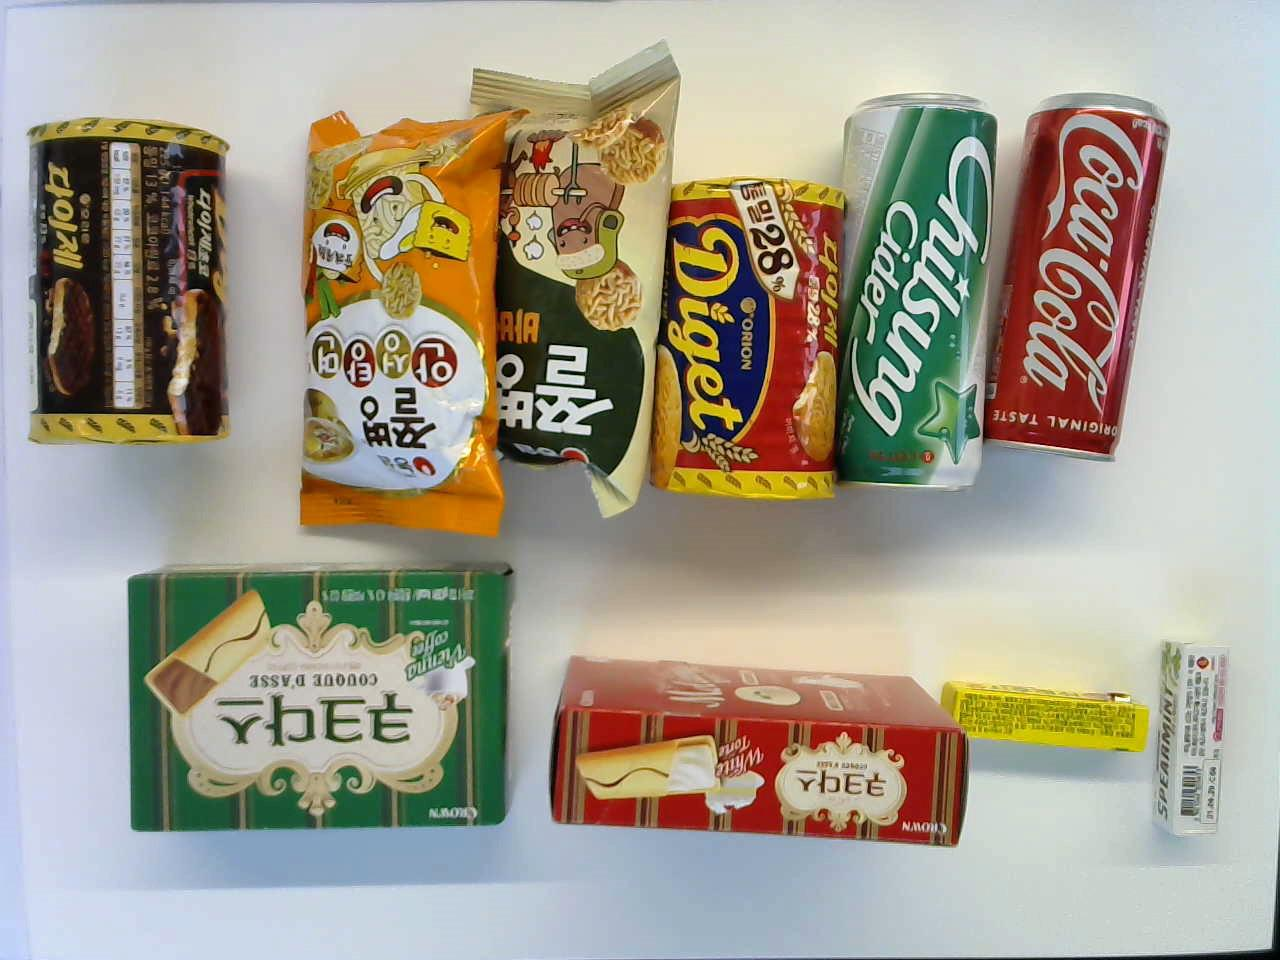cidar: (831, 89, 1007, 495)
coke: (963, 87, 1176, 465)
couque_coffee: (118, 552, 521, 839), (1143, 634, 1236, 840)
couque_white: (540, 651, 970, 852), (1143, 634, 1236, 840)
diget_choco: (16, 113, 237, 448)
diget_ori: (642, 173, 851, 496)
jjolbyung_noodle: (296, 107, 514, 538)
jjolbyung_ori: (461, 33, 684, 521)
juicyfresh: (939, 678, 1151, 756)
spearmint: (1143, 634, 1236, 840)
